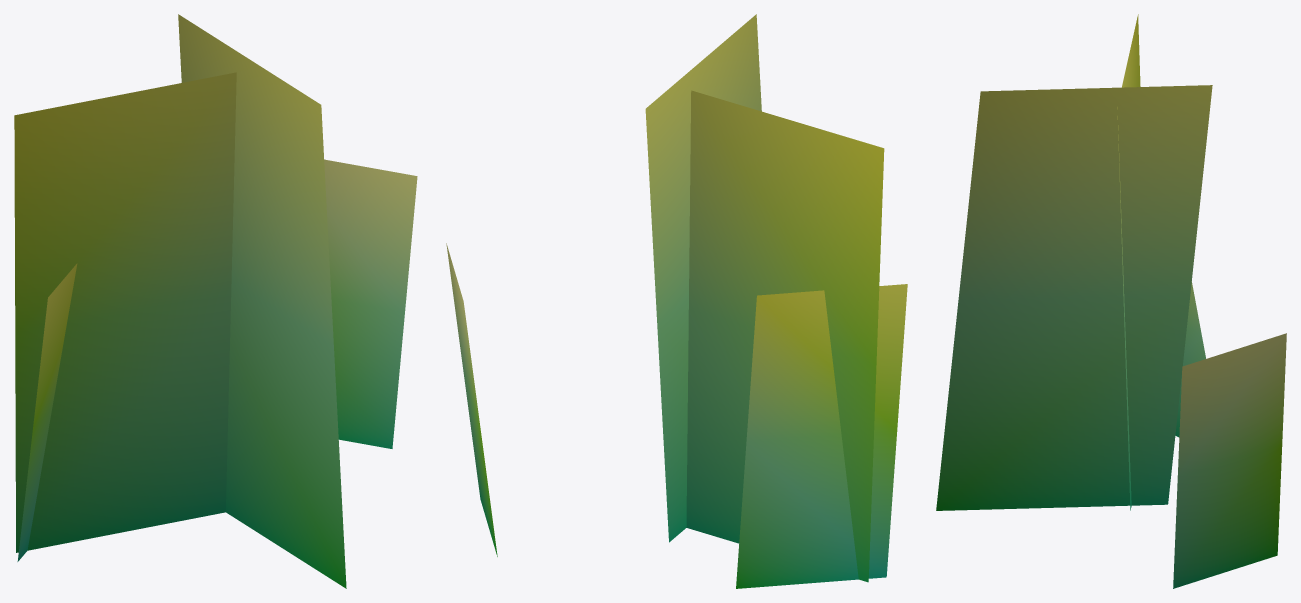
The model's file is grass_tuft_b.glb.
3 renders of one model, left to right at view 1: azimuth 30°, elevation 25°; view 2: azimuth 150°, elevation 25°; view 3: azimuth 270°, elevation 25°, orthographic. The views are drawn at different scales.
Parts seen in each view (by area): view 1: LOD0; view 2: LOD0; view 3: LOD0.
Boxes of the visible parts, x1,y1,x2,y2 form: LOD0: [14, 14, 417, 588]; LOD0: [446, 14, 907, 588]; LOD0: [936, 14, 1286, 588].
Size of what is drawn, in the model's own units: 0.282 by 0.2937 by 0.2226.
